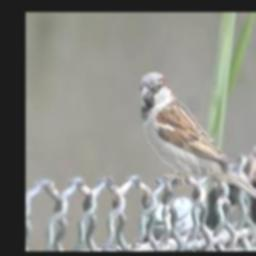Sparrow: (138, 71, 256, 208)
